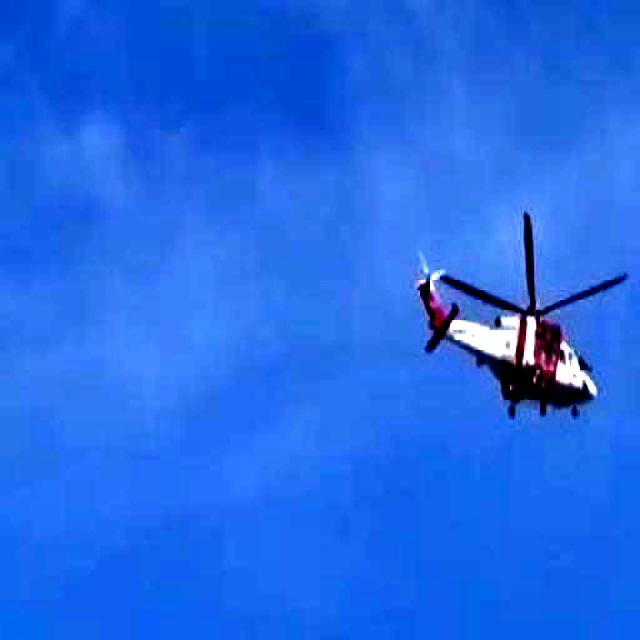drone: (364, 129, 640, 498)
